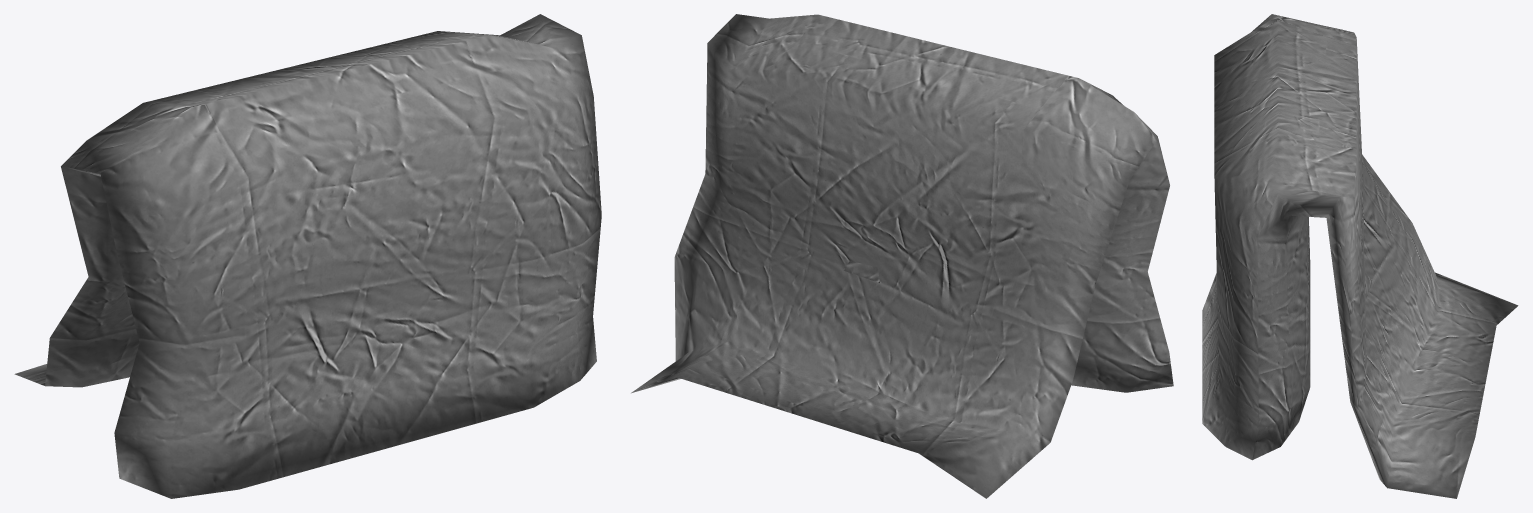
The model's file is Plastic.fbx.
The picture shows the model from 3 angles, left to right: view 1: azimuth 30°, elevation 25°; view 2: azimuth 150°, elevation 25°; view 3: azimuth 270°, elevation 25°; orthographic projection. The views are drawn at different scales.
Visible parts, largest first — view 1: Vergruizer_Plastic; view 2: Vergruizer_Plastic; view 3: Vergruizer_Plastic.
Part boxes in pixels (box(x1,y1,x2,y2)): Vergruizer_Plastic: box(14, 14, 601, 498); Vergruizer_Plastic: box(631, 14, 1173, 498); Vergruizer_Plastic: box(1202, 14, 1518, 498).
Bounding box in the file's own units: 50.6 × 36.03 × 32.48.
